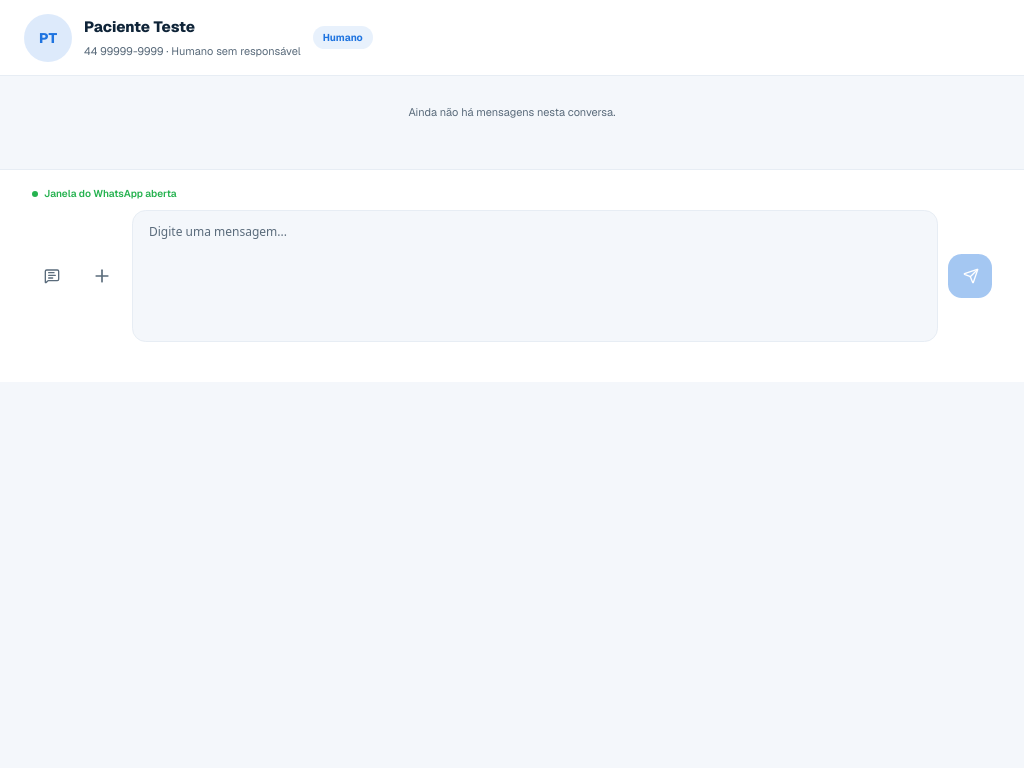
Test: ChatWindow › should_make_the_quick_message_selector_follow_the_fluid_width
(page scrolled)
Click the button named "Mensagens rápidas": (52, 276) 32,256 -> 72,296
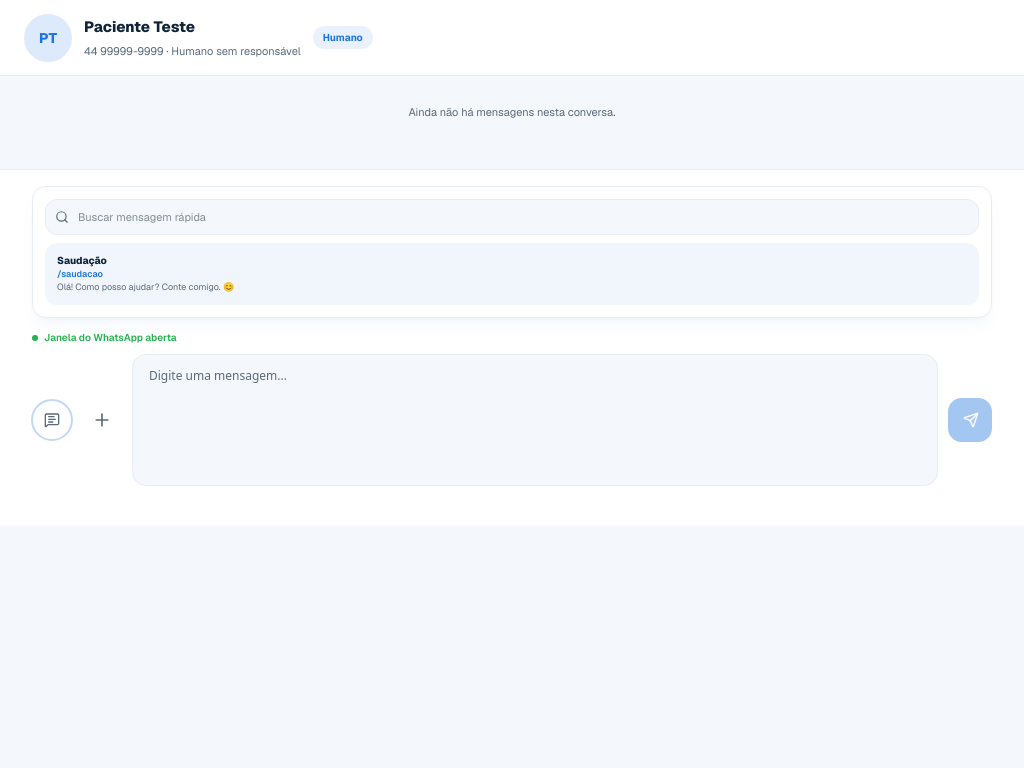
Expected: the element named "Buscar mensagens rápidas" is shown, 32,186 -> 992,318
